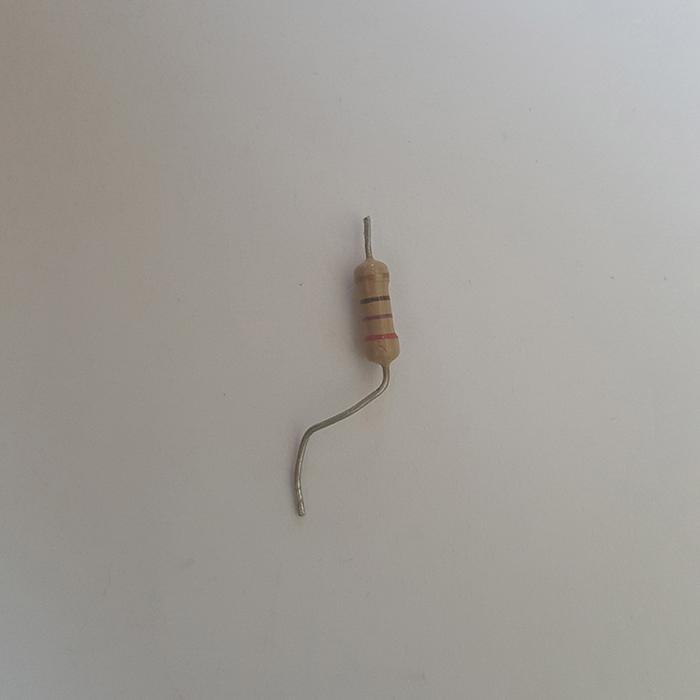resistor: (352, 217, 399, 366)
